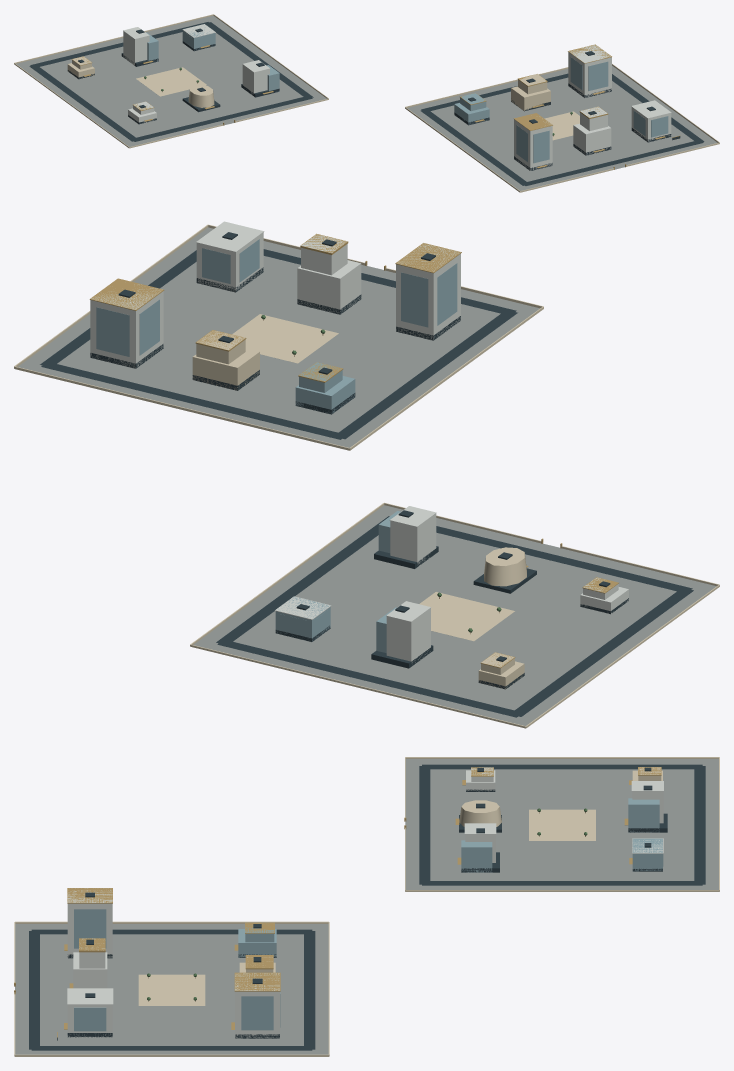
The model's file is GC-TILE-04-04.glb.
3 views of the same model, one above another, from view 1: azimuth 30°, elevation 25°; view 2: azimuth 150°, elevation 25°; view 3: azimuth 270°, elevation 25° (orthographic). The views are drawn at different scales.
Visible parts, largest first — view 1: GC-TILE-04-04-paving, GC-TILE-04-04-dark, GC-TILE-04-04-white, GC-TILE-04-04-ivory, GC-TILE-04-04-glass, GC-TILE-04-04-gold; view 2: GC-TILE-04-04-paving, GC-TILE-04-04-dark, GC-TILE-04-04-white, GC-TILE-04-04-ivory, GC-TILE-04-04-glass, GC-TILE-04-04-gold; view 3: GC-TILE-04-04-paving, GC-TILE-04-04-dark, GC-TILE-04-04-ivory, GC-TILE-04-04-white, GC-TILE-04-04-glass, GC-TILE-04-04-gold.
Boxes of the visible parts, left/top/right/bottom form: GC-TILE-04-04-paving: left=16, top=15, right=717, bottom=190; GC-TILE-04-04-dark: left=29, top=22, right=704, bottom=185; GC-TILE-04-04-white: left=123, top=24, right=671, bottom=170; GC-TILE-04-04-ivory: left=14, top=14, right=719, bottom=192; GC-TILE-04-04-glass: left=146, top=27, right=668, bottom=163; GC-TILE-04-04-gold: left=71, top=44, right=680, bottom=169; GC-TILE-04-04-paving: left=18, top=227, right=716, bottom=725; GC-TILE-04-04-dark: left=40, top=232, right=693, bottom=717; GC-TILE-04-04-white: left=90, top=221, right=628, bottom=662; GC-TILE-04-04-ivory: left=14, top=224, right=719, bottom=728; GC-TILE-04-04-glass: left=96, top=239, right=457, bottom=652; GC-TILE-04-04-gold: left=89, top=233, right=618, bottom=668; GC-TILE-04-04-paving: left=15, top=759, right=718, bottom=1054; GC-TILE-04-04-dark: left=29, top=764, right=705, bottom=1050; GC-TILE-04-04-ivory: left=14, top=757, right=719, bottom=1056; GC-TILE-04-04-white: left=67, top=767, right=663, bottom=1038; GC-TILE-04-04-glass: left=74, top=798, right=663, bottom=1031; GC-TILE-04-04-gold: left=14, top=767, right=661, bottom=1037.
Bounding box in the file's own units: 759 × 67.3 × 760.
